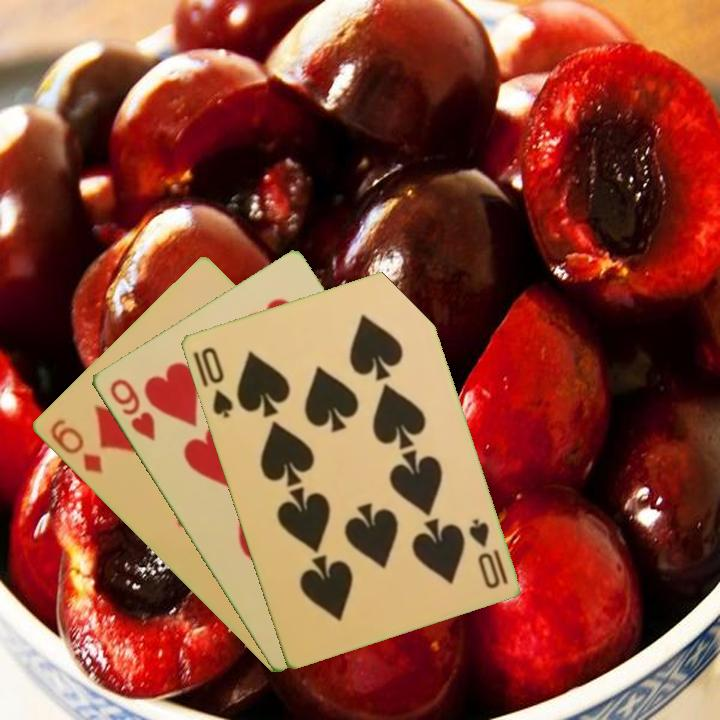10s: (464, 515, 510, 592), (197, 343, 236, 421)
6d: (46, 415, 105, 477)
9h: (105, 375, 158, 444)
